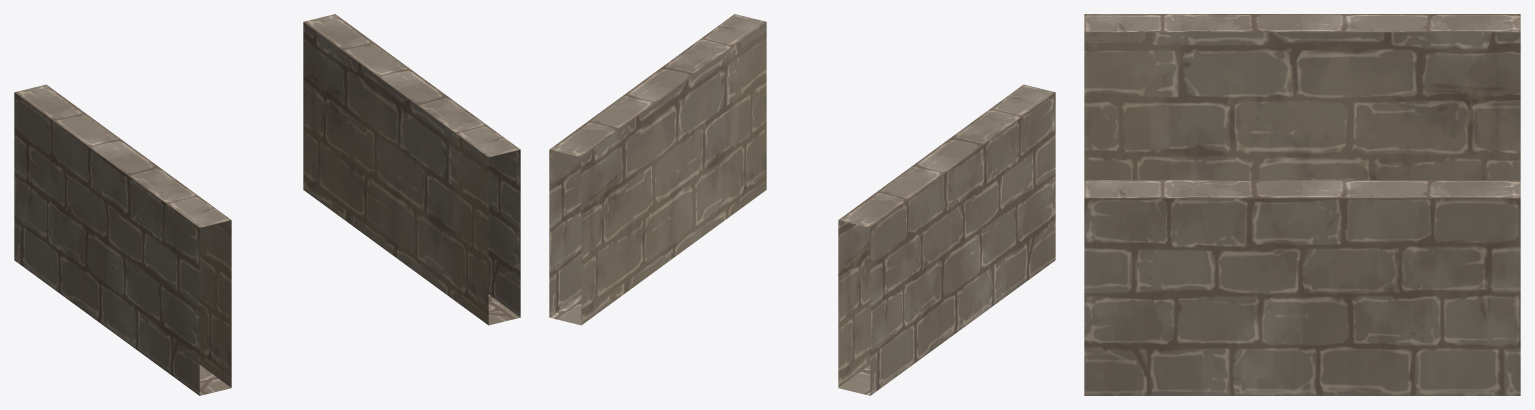
The model's file is Stairs_Exterior_Sides.gltf.
The picture shows the model from 3 angles, left to right: view 1: azimuth 30°, elevation 25°; view 2: azimuth 150°, elevation 25°; view 3: azimuth 270°, elevation 25°; orthographic projection. The views are drawn at different scales.
Visible parts, largest first — view 1: Stairs_Exterior_Sides; view 2: Stairs_Exterior_Sides; view 3: Stairs_Exterior_Sides.
Part boxes in pixels (left/top/right/bottom): Stairs_Exterior_Sides: left=14, top=14, right=520, bottom=395; Stairs_Exterior_Sides: left=549, top=14, right=1055, bottom=395; Stairs_Exterior_Sides: left=1084, top=14, right=1520, bottom=395.
Size of the model in its own units: 2 by 0.9999 by 2.
1 material, 1 textured.
